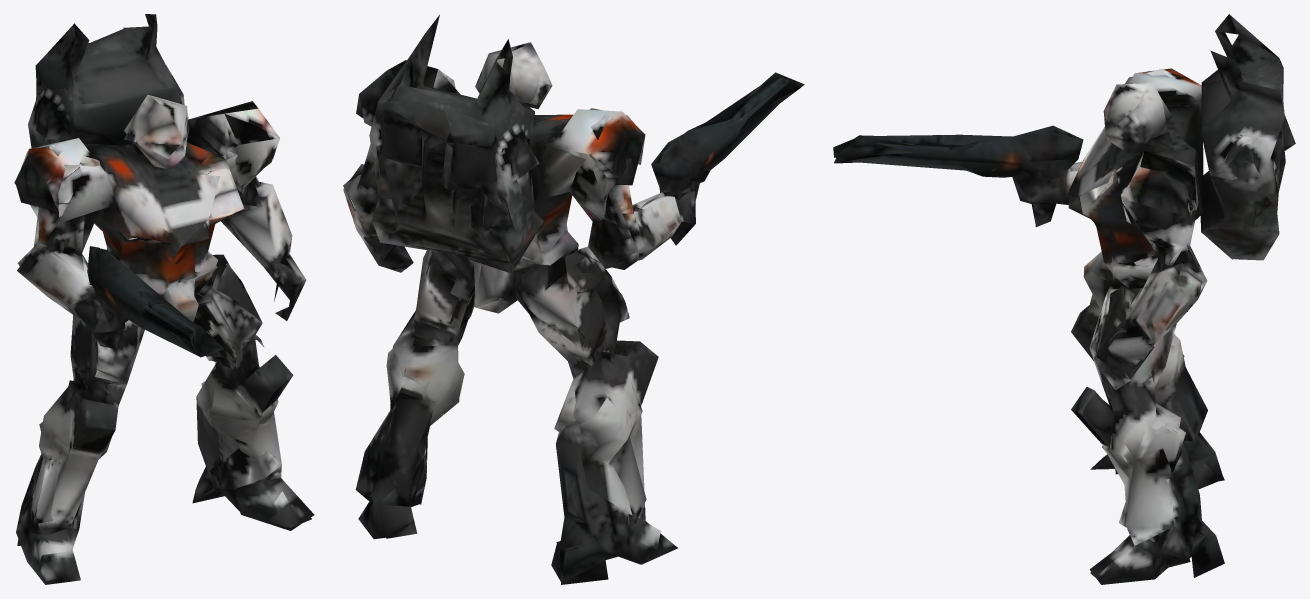
The model's file is detail_10_lo2.glb.
3 renders of one model, left to right at view 1: azimuth 30°, elevation 25°; view 2: azimuth 150°, elevation 25°; view 3: azimuth 270°, elevation 25°, orthographic. The views are drawn at different scales.
Visible parts, largest first — view 1: Mesh_0.001; view 2: Mesh_0.001; view 3: Mesh_0.001.
Part boxes in pixels (left/top/right/bottom): Mesh_0.001: left=14, top=14, right=314, bottom=584; Mesh_0.001: left=343, top=14, right=804, bottom=584; Mesh_0.001: left=833, top=14, right=1295, bottom=584.
Size of the model in its own units: 0.5766 by 0.9962 by 0.8546.
Materials: 1 (1 with a texture image).
